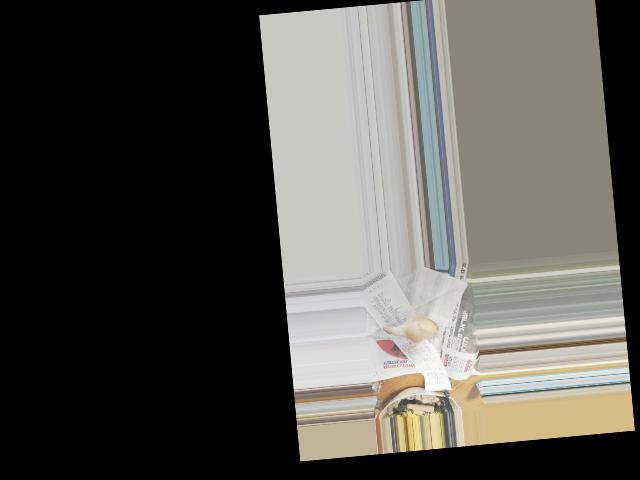onion: (401, 316, 438, 343)
